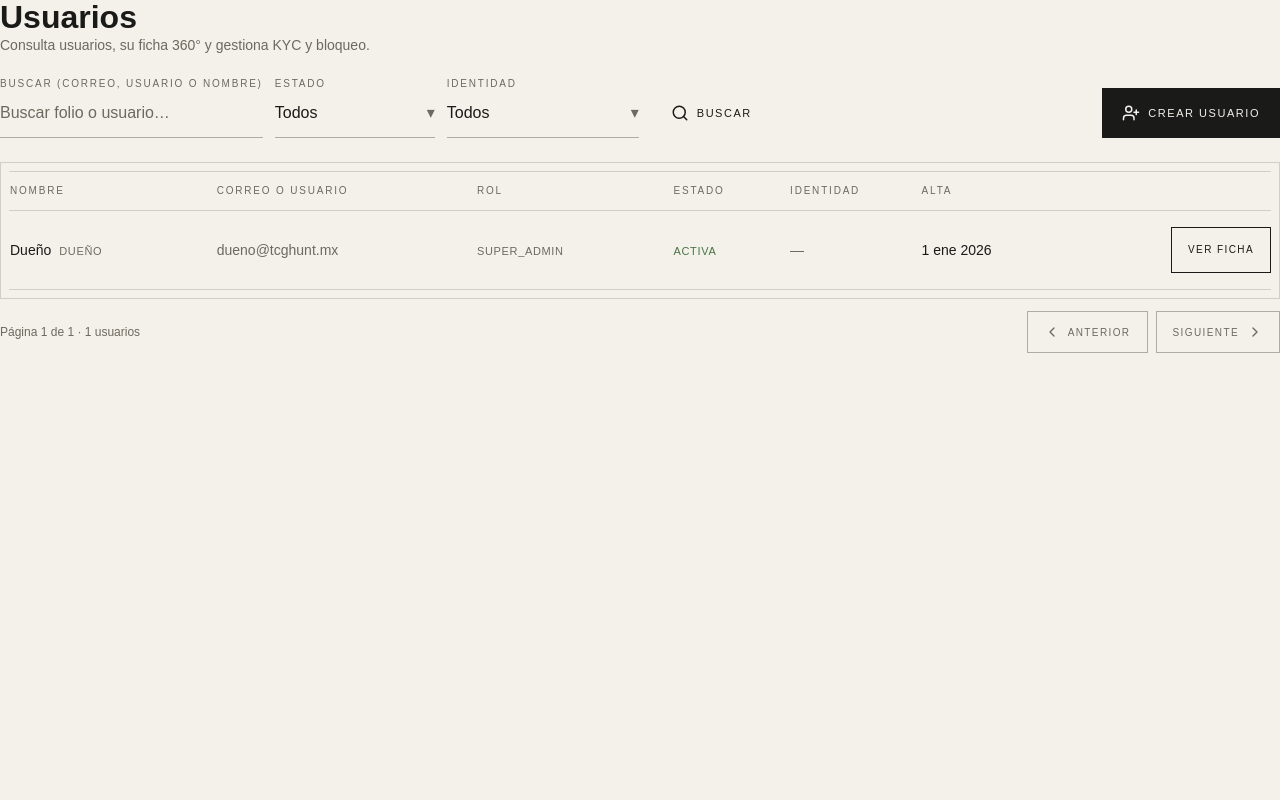
Test: PS-164 · la cuenta del dueño en Usuarios › el dueño en su propia ficha ⇒ restablece su contraseña, pero ⛔ ni «Bloquear» ni «Eliminar usuario»
This screenshot has width=1280, height=800.
Click the button "Ver ficha": (1221, 250) [1171,227,1271,273]
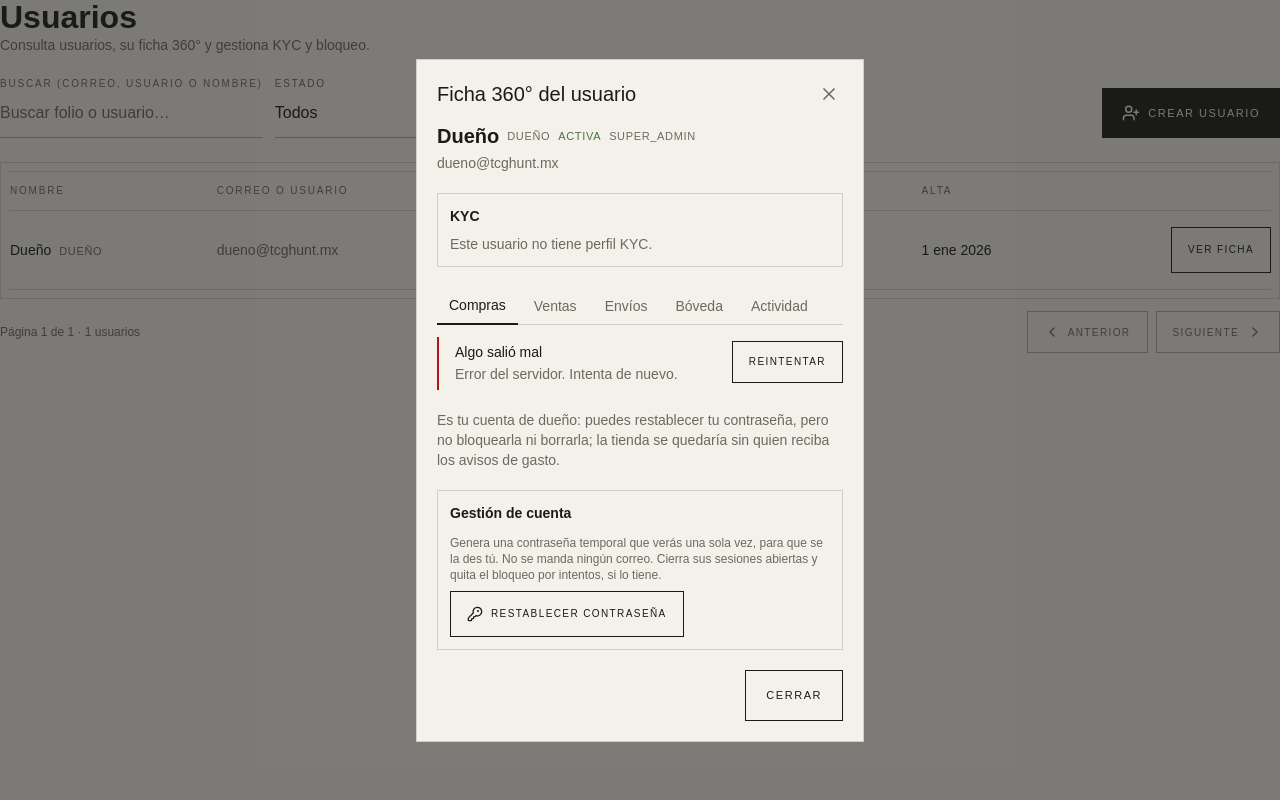
Expected: the button "Restablecer contraseña" is shown, [450,591,684,637]
